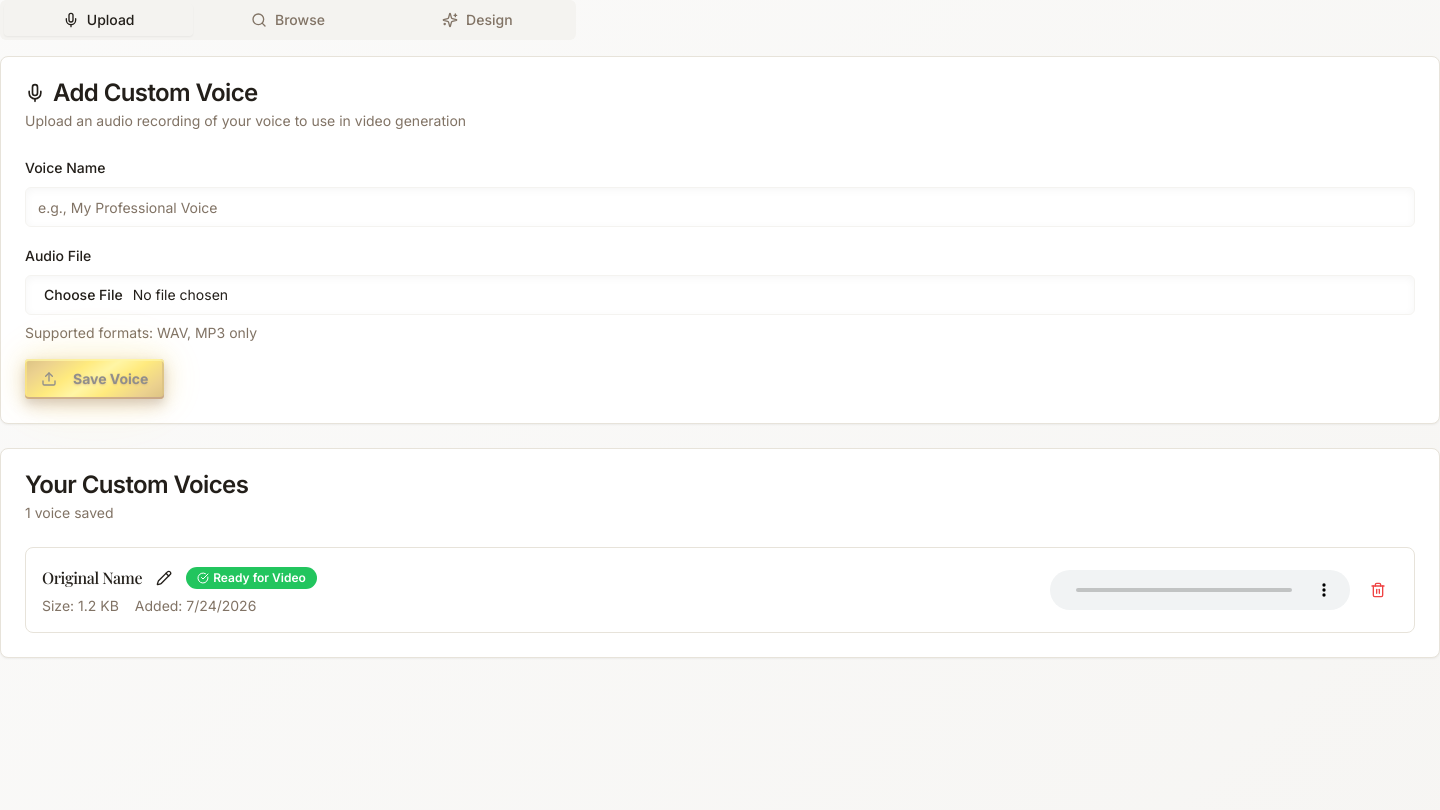
Test: VoiceLibraryManager — inline rename editor › opens the editor when the pencil is clicked, prefilled with the current name
The image size is (1440, 810).
Expected: the heading "Original Name" is shown, x1=42 y1=566 x2=142 y2=590
Click the button with test id "button-rename-voice-v_1".
click(164, 578)  # box x1=150 y1=564 x2=178 y2=592
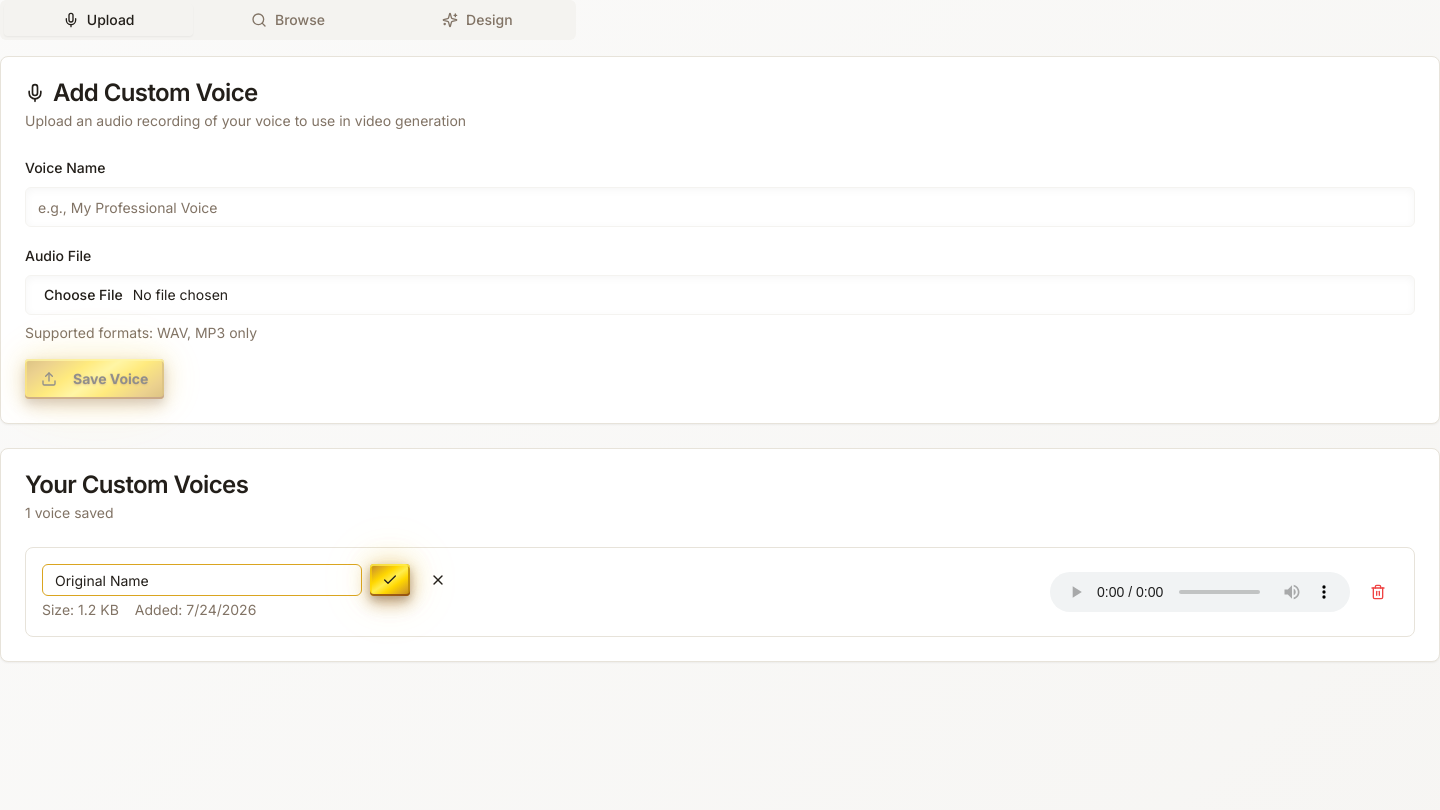
Expected: the field with test id "input-rename-voice-v_1" holds "Original Name", x1=42 y1=564 x2=362 y2=596
